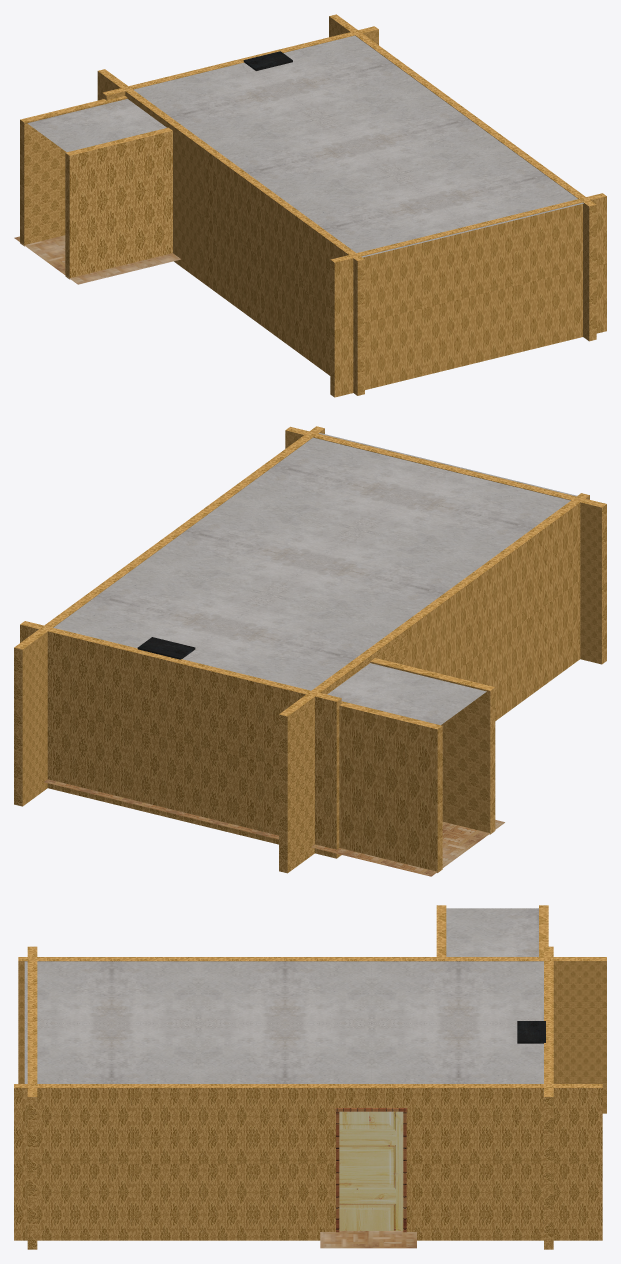
Rendered from Room_1.fbx.
The picture shows the model from 3 angles, top to bottom: view 1: azimuth 30°, elevation 25°; view 2: azimuth 150°, elevation 25°; view 3: azimuth 270°, elevation 25°; orthographic projection. The views are drawn at different scales.
Parts seen in each view (by area): view 1: Cube.034, Cube.032, Cube.029, Cube.033, Cube.030, Cube.031, Cube.035, Cube.003, Plane.081, Plane.077, Plane.085, Plane.083 (+24 smaller); view 2: Cube.035, Cube.008, Cube.006, Cube.034, Cube.009, Cube.005, Cube.007, Plane.085, Plane.077, Plane.081, Plane.083, Plane.082 (+26 smaller); view 3: Cube.026, Cube.025, Cube.022, Cube.028, Cube.027, Cube.001, Cube.042, Cube.024, Cube.023, Cube.021, Cube.010, Plane.077 (+33 smaller).
Part boxes in pixels (<box>): Cube.034: <box>65,127,172,279</box>; Cube.032: <box>421,215,516,307</box>; Cube.029: <box>425,285,516,375</box>; Cube.033: <box>330,237,425,329</box>; Cube.030: <box>330,307,425,397</box>; Cube.031: <box>512,193,606,285</box>; Cube.035: <box>20,96,127,246</box>; Cube.003: <box>516,263,606,352</box>; Plane.081: <box>209,118,358,173</box>; Plane.077: <box>171,90,320,145</box>; Plane.085: <box>286,174,434,229</box>; Plane.083: <box>248,146,397,201</box>; Cube.035: <box>339,701,442,872</box>; Cube.008: <box>125,646,235,753</box>; Cube.006: <box>125,728,231,832</box>; Cube.034: <box>370,658,495,834</box>; Cube.009: <box>20,621,129,728</box>; Cube.005: <box>231,672,341,779</box>; Cube.007: <box>47,709,125,806</box>; Plane.085: <box>358,496,532,560</box>; Plane.077: <box>225,594,398,658</box>; Plane.081: <box>270,562,443,626</box>; Plane.083: <box>315,529,487,593</box>; Plane.082: <box>141,531,313,594</box>; Cube.026: <box>132,1084,251,1163</box>; Cube.025: <box>132,1163,251,1240</box>; Cube.022: <box>484,1084,602,1163</box>; Cube.028: <box>14,1084,132,1163</box>; Cube.027: <box>14,1163,132,1240</box>; Cube.001: <box>484,1163,602,1240</box>; Cube.042: <box>339,1111,403,1230</box>; Cube.024: <box>251,1084,369,1163</box>; Cube.023: <box>369,1084,483,1163</box>; Cube.021: <box>251,1163,335,1240</box>; Cube.010: <box>406,1163,483,1240</box>; Plane.077: <box>371,961,458,1023</box>.
Size of the model in its own units: 1444 by 507 by 1767.
